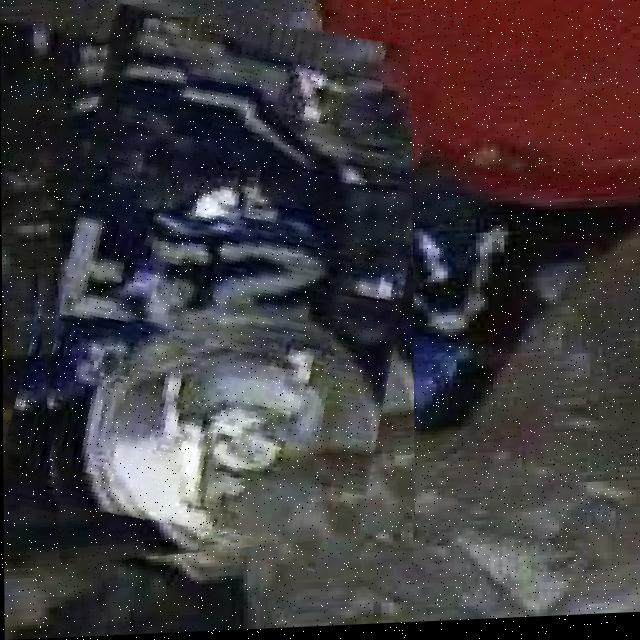can: (16, 11, 414, 567)
